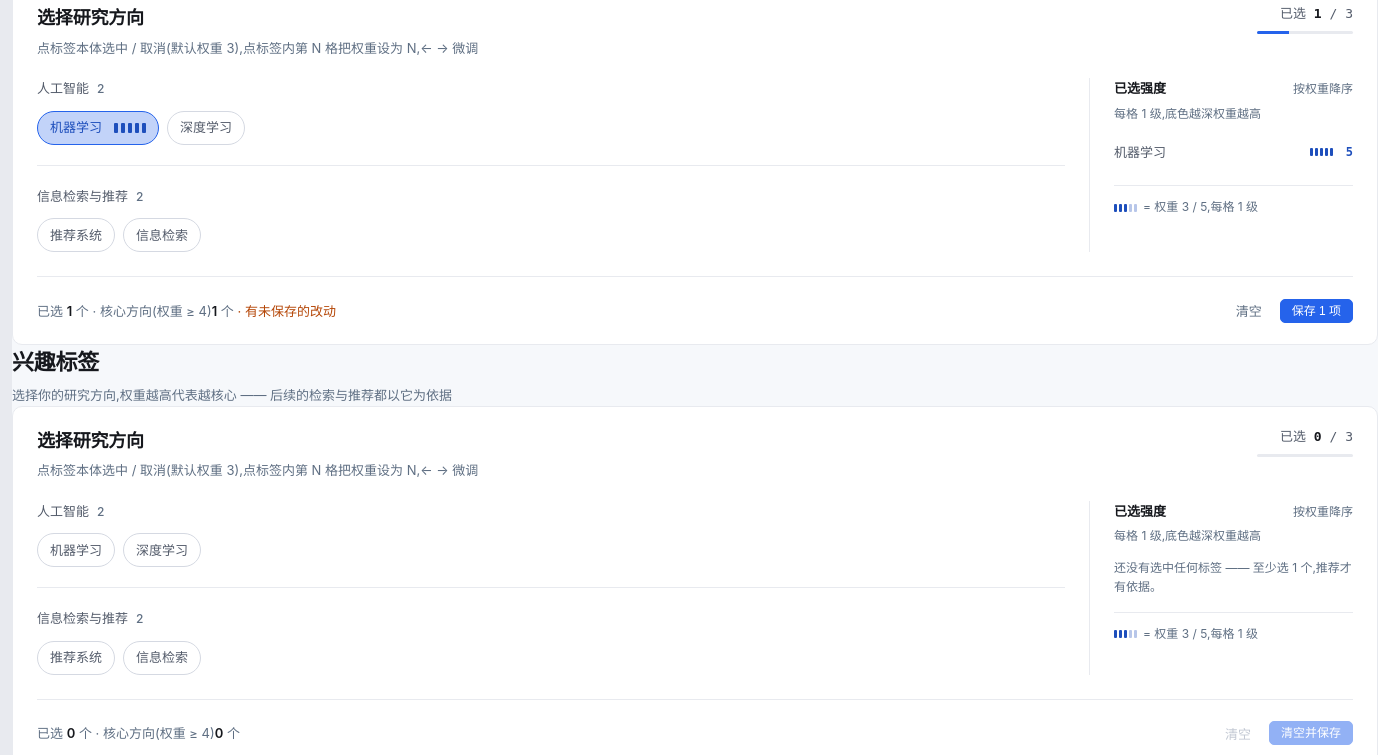
Test: InterestView › 达到上限后第 4 个标签点不动,并给出提示
The width and height of the screenshot is (1378, 755).
(page scrolled)
Click the 5th button with class "tag".
click(76, 550)  # box top-left (37, 533), bottom-right (115, 567)
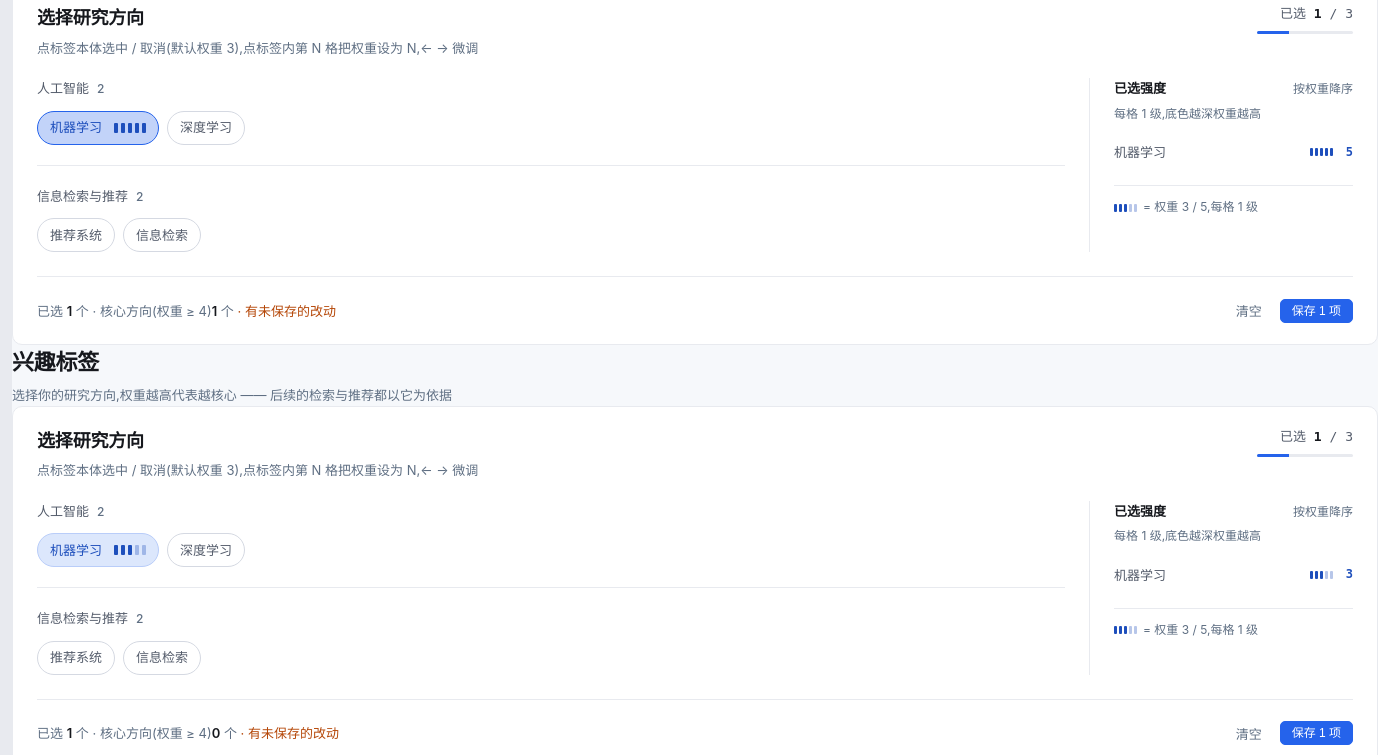
Click the 6th button with class "tag".
click(206, 550)  # box top-left (167, 533), bottom-right (245, 567)
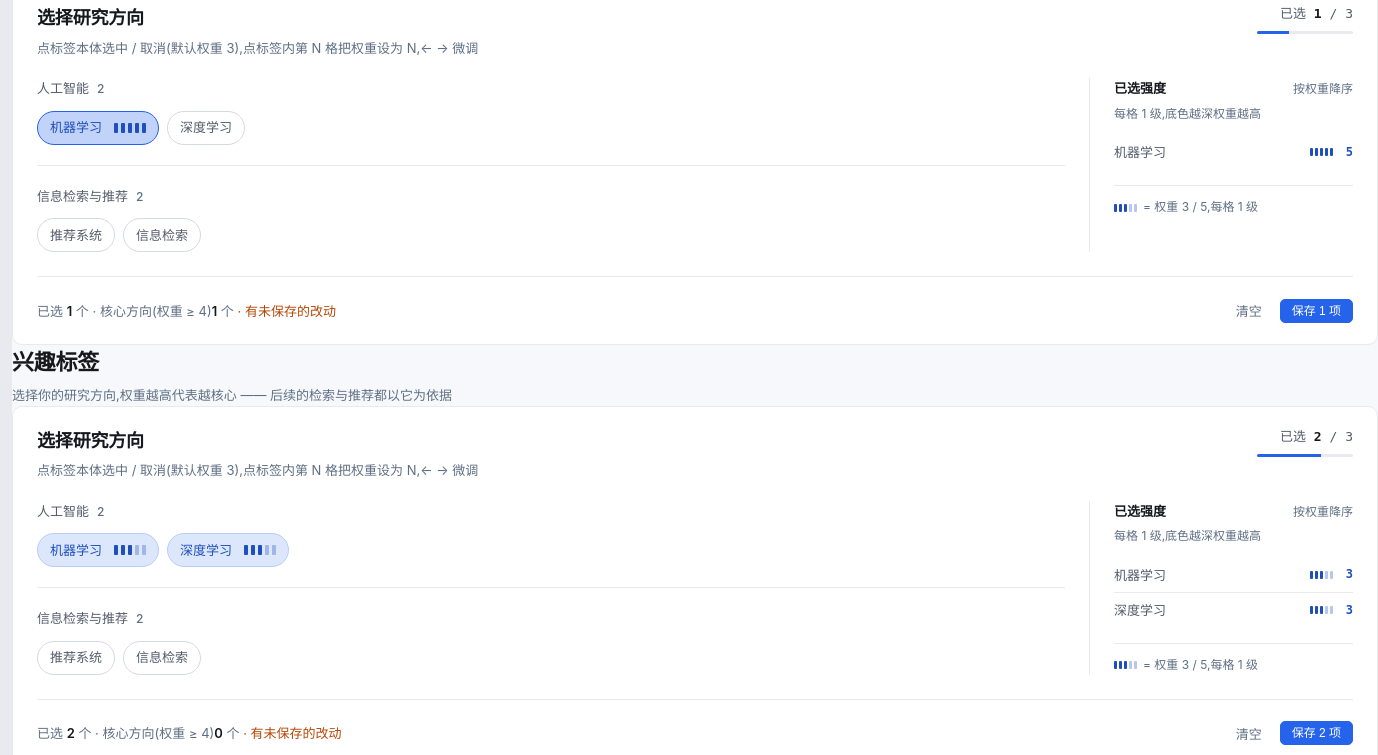
Click the 7th button with class "tag".
click(76, 658)  # box top-left (37, 641), bottom-right (115, 675)
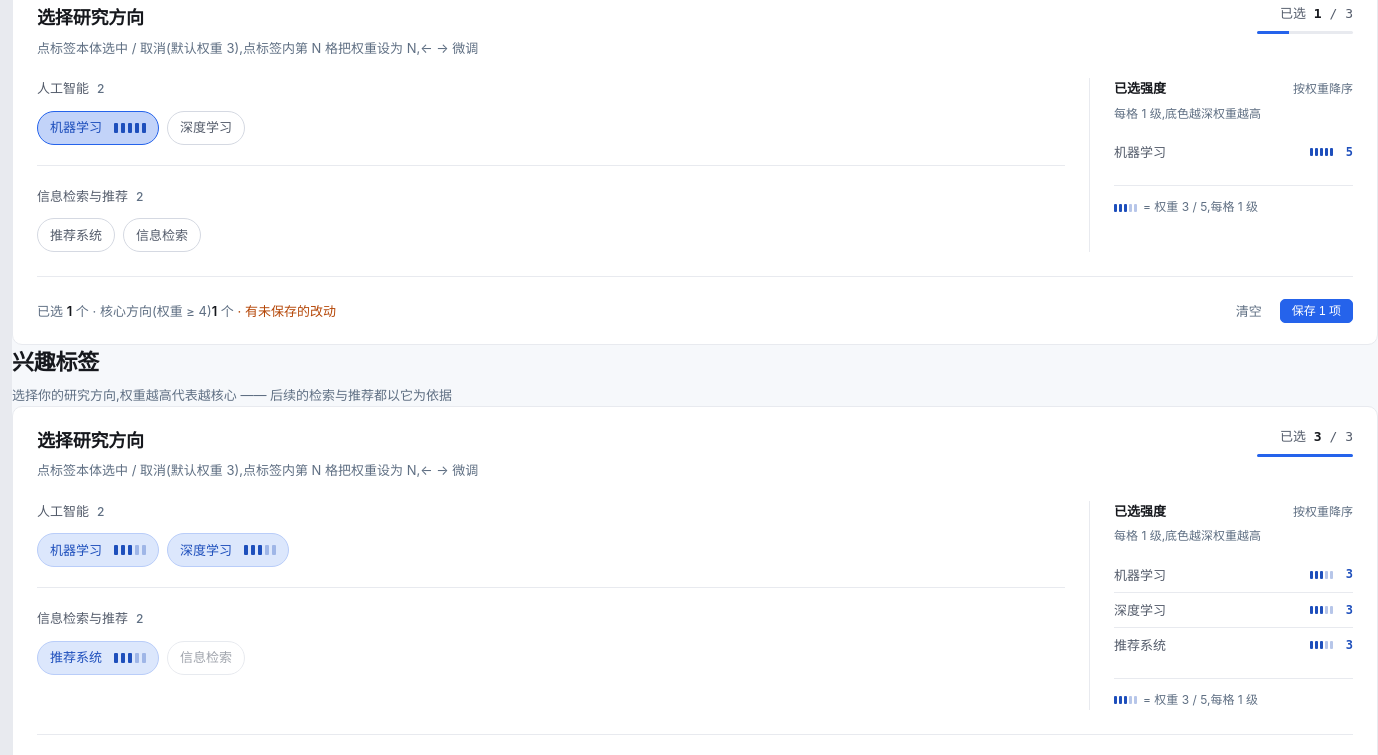
Expected: the text "已选 3 / 3" is shown, top-left (1280, 426), bottom-right (1353, 447)
Click the 8th button with class "tag".
click(206, 658)  # box top-left (167, 641), bottom-right (245, 675)
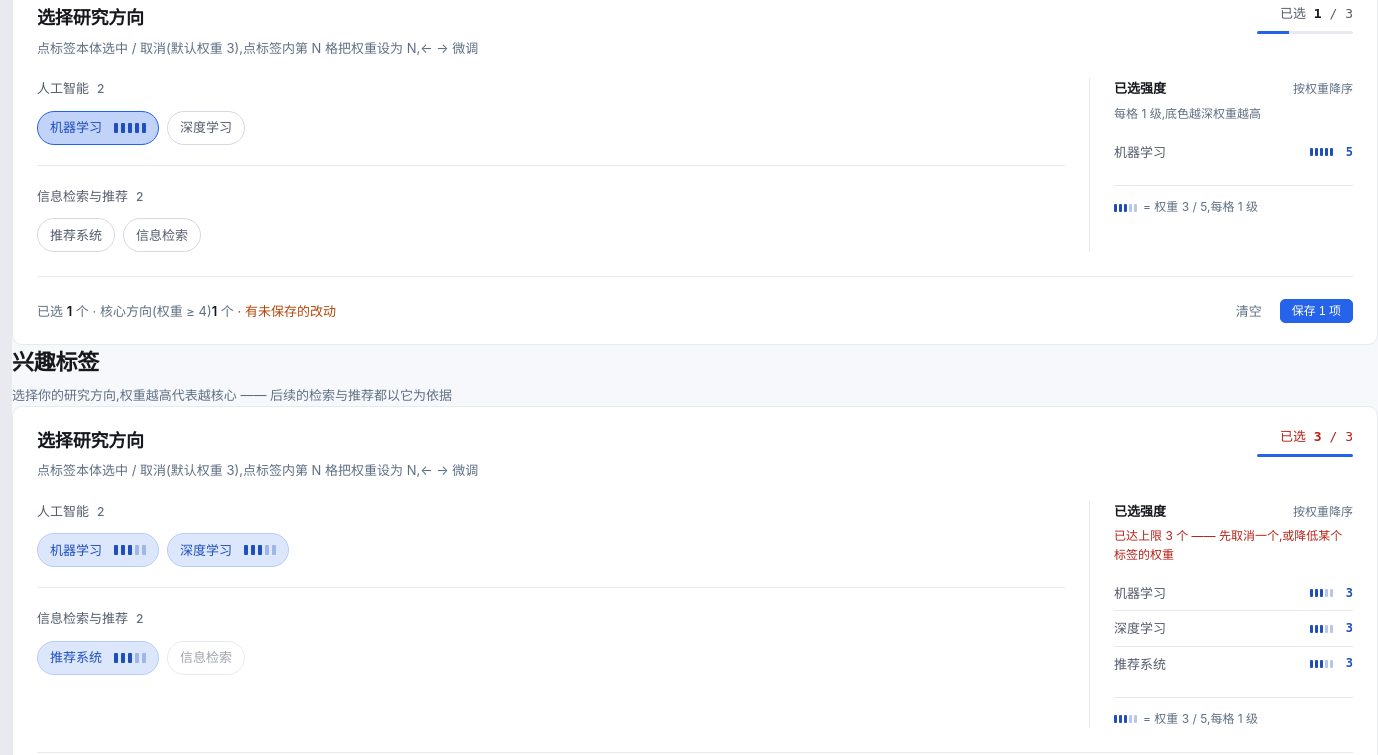
Expected: the text "已达上限 3 个" is shown, top-left (1114, 528), bottom-right (1342, 562)
